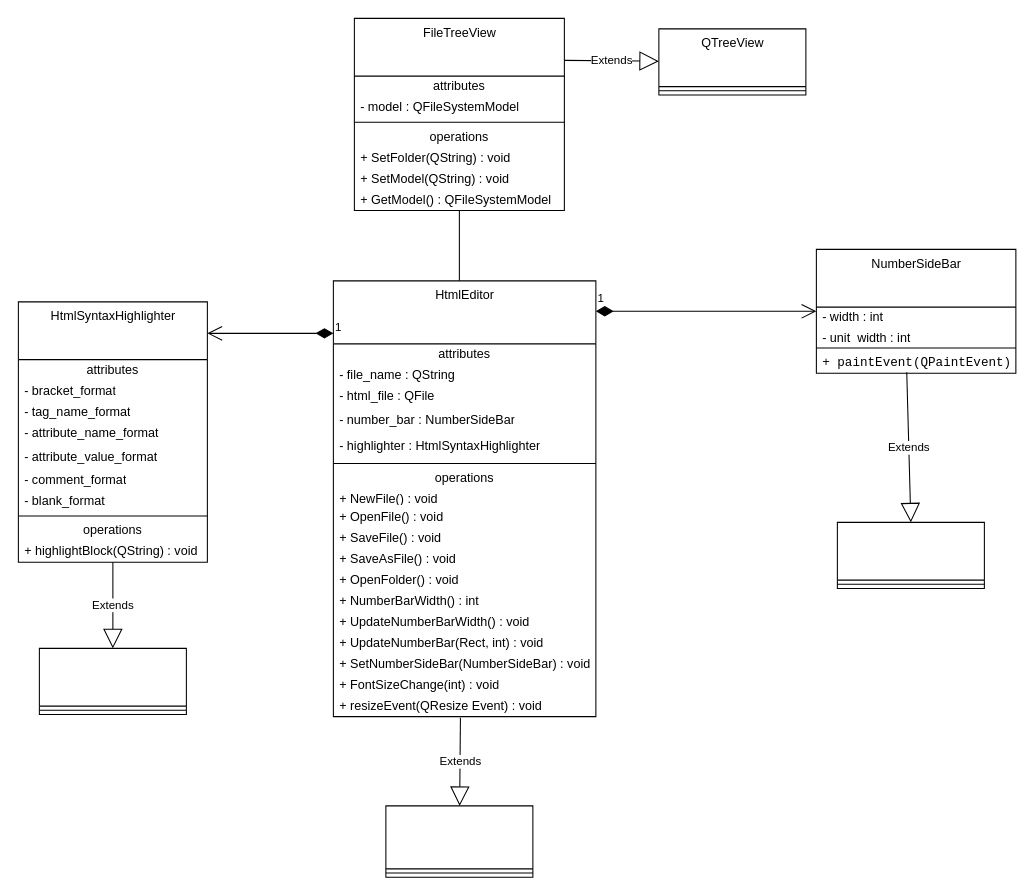
Image size: 1034x896. Some labels were removed from this diagram. Here are the shapes that lost their labels. From the top down, the centre of each, then its label:
(910,555): QWidget
(112,681): QSyntaxHighlighter
(459,841): QPlainTextEdit
